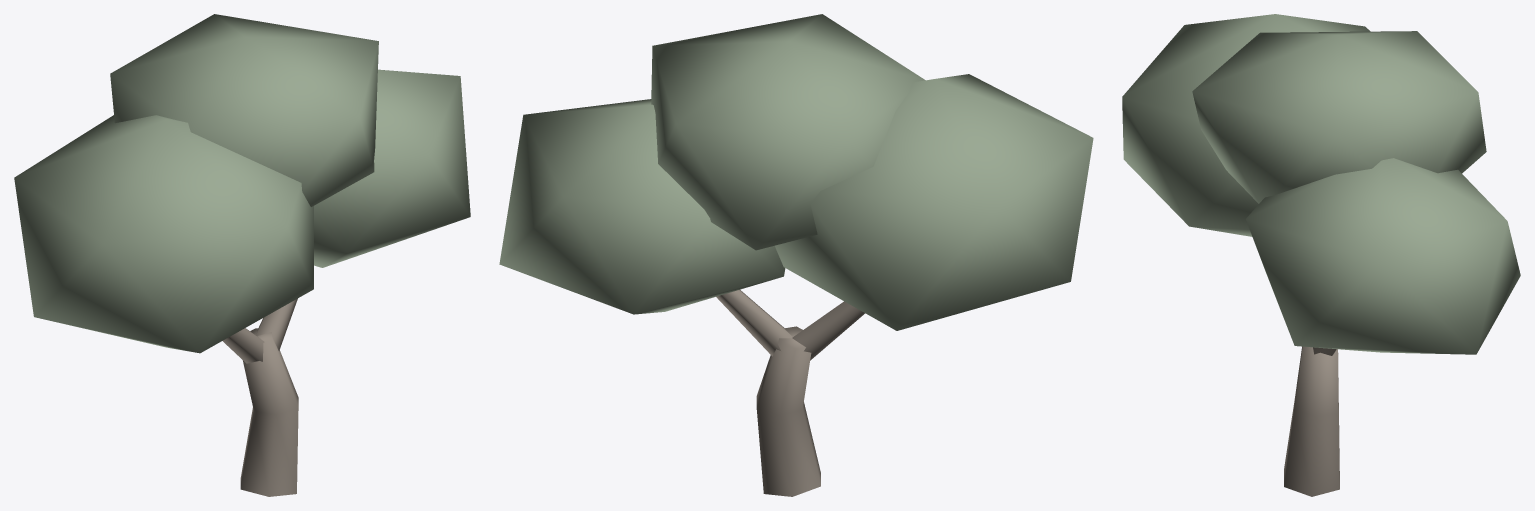
Rendered from olive.glb.
3 views of the same model, side by side, from view 1: azimuth 30°, elevation 25°; view 2: azimuth 150°, elevation 25°; view 3: azimuth 270°, elevation 25° (orthographic). The views are drawn at different scales.
Visible parts, largest first — view 1: olive; view 2: olive; view 3: olive.
Part boxes in pixels (x1=…): olive: x1=14, y1=14, x2=470, y2=496; olive: x1=499, y1=14, x2=1093, y2=496; olive: x1=1122, y1=14, x2=1520, y2=496.
Size of the model in its own units: 5.79 by 5.15 by 4.19.
